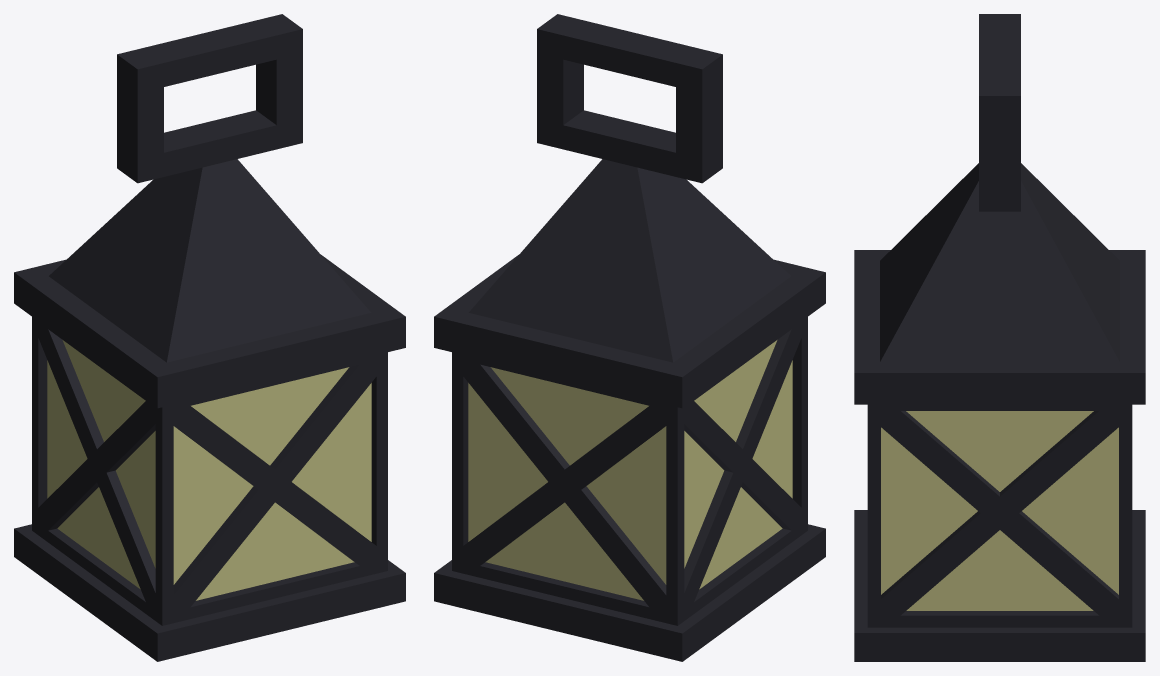
Rendered from 002 Candle_Light.fbx.
3 views of the same model, side by side, from view 1: azimuth 30°, elevation 25°; view 2: azimuth 150°, elevation 25°; view 3: azimuth 270°, elevation 25° (orthographic).
Parts seen in each view (by area): view 1: Lowpoly_Christmas_Pack_02:pCube5; view 2: Lowpoly_Christmas_Pack_02:pCube5; view 3: Lowpoly_Christmas_Pack_02:pCube5.
Boxes of the visible parts, left/top/right/bottom form: Lowpoly_Christmas_Pack_02:pCube5: left=14, top=14, right=405, bottom=661; Lowpoly_Christmas_Pack_02:pCube5: left=434, top=14, right=825, bottom=661; Lowpoly_Christmas_Pack_02:pCube5: left=854, top=14, right=1145, bottom=661.
Bounding box in the file's own units: 1.1 × 2.27 × 1.1.
